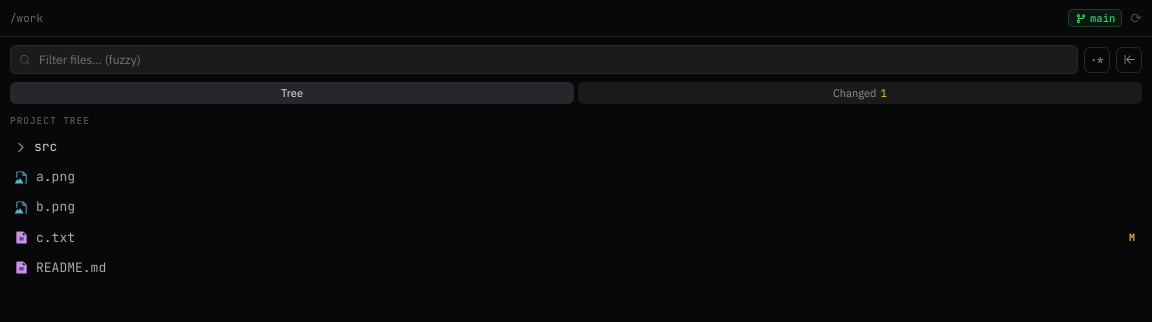
Test case: dotfiles are hidden by default and appear after the ·* toggle
Expected: the text "a.png" is shown, [36,168,75,185]
Expected: the text ".env" is not shown
What coordinates should you click on to do the following:
click the button titled "Show dotfiles"
I would click on:
 (1097, 60)
Its box is [1084,46,1110,72].
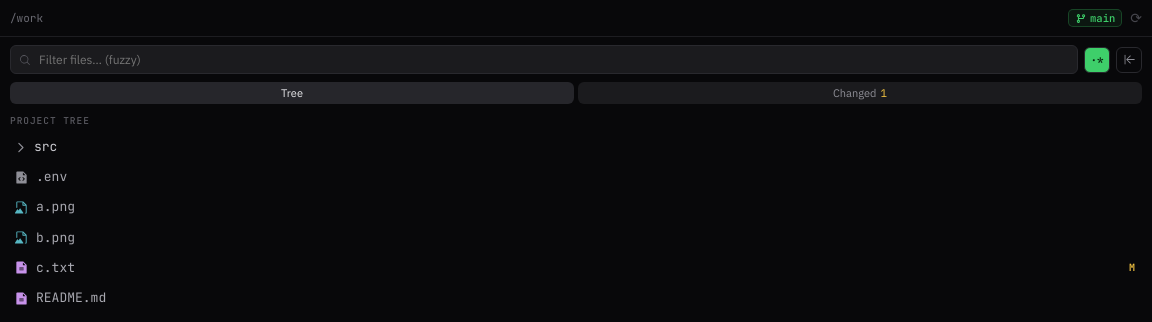
Expected: the text ".env" is shown, [36,168,67,185]
